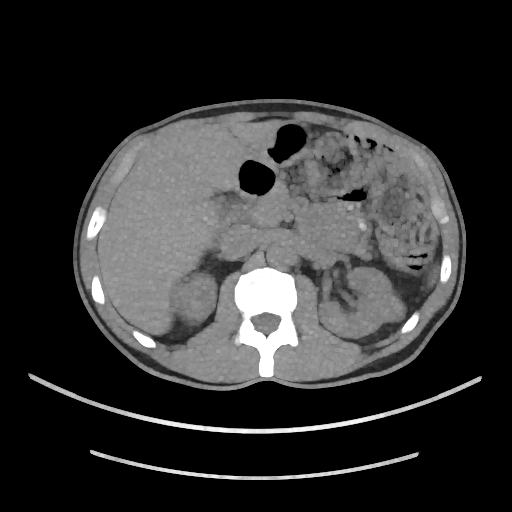Lesion: (375, 289, 407, 326)
